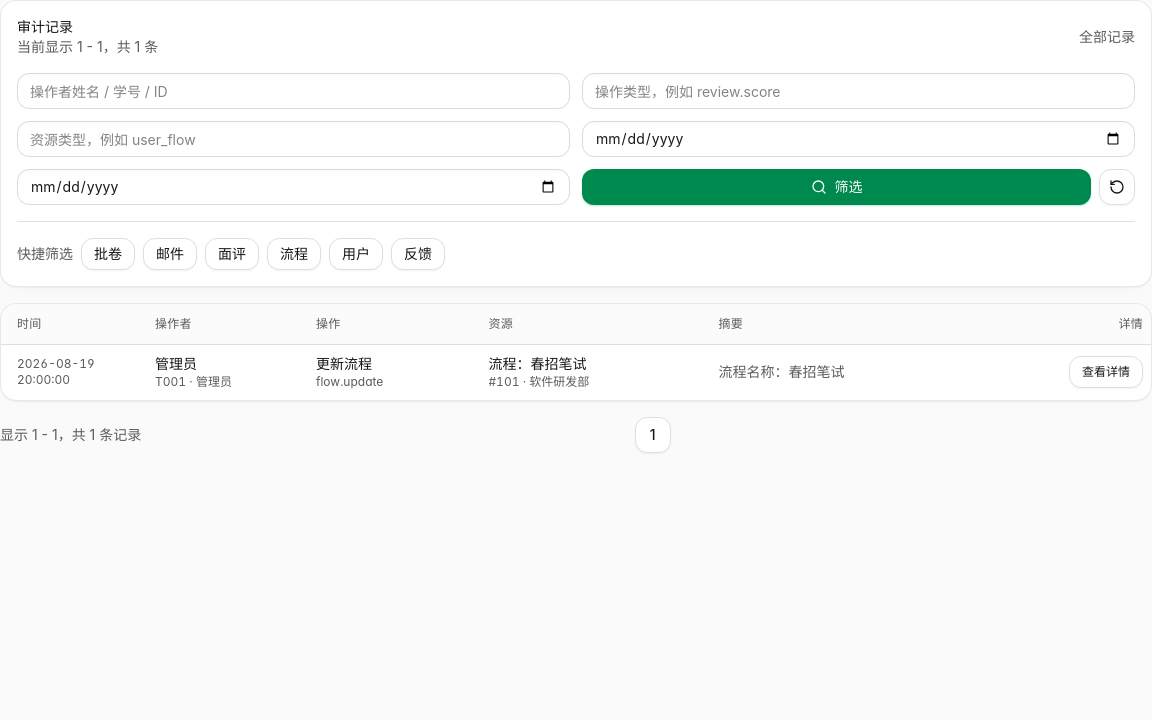
Test: AuditLogTable › keeps rows compact and opens full details on demand
Check: the text "流程名称：春招笔试" is shown, box x1=718 y1=363 x2=844 y2=380
Check: the text "#101 · 软件研发部" is shown, box x1=488 y1=374 x2=589 y2=389
Click the button "查看详情". click: (1106, 372)
box: x1=1069 y1=356 x2=1143 y2=388
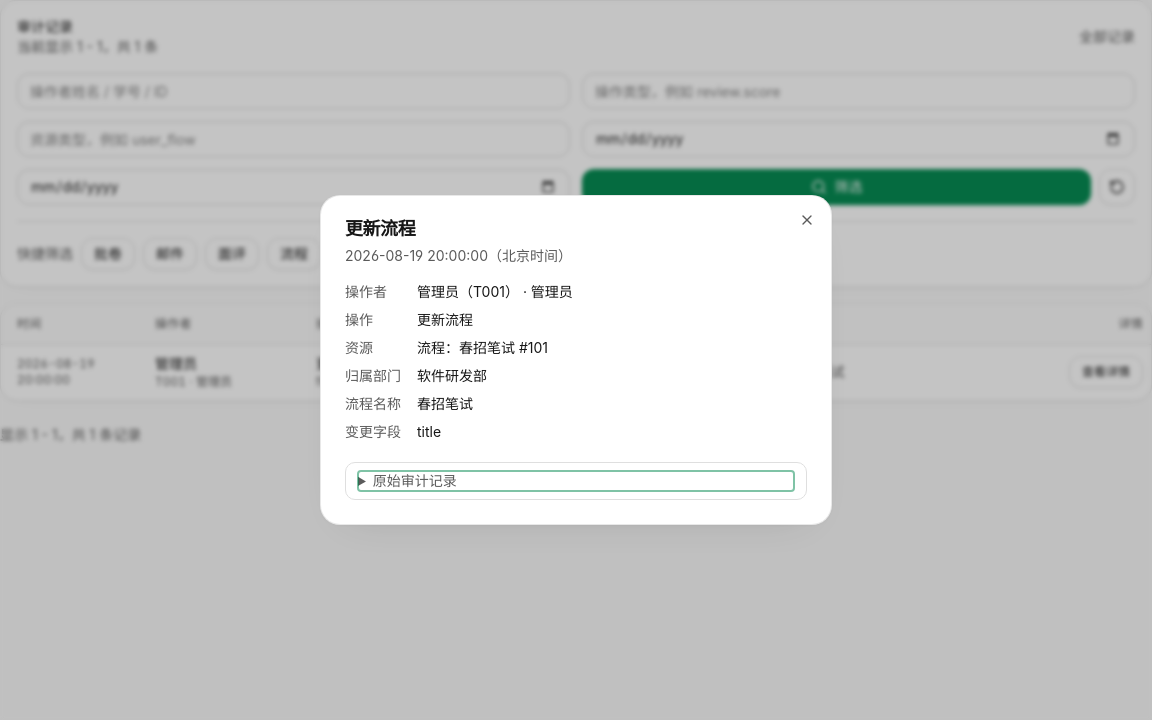
Check: the dialog is shown, box x1=320 y1=195 x2=832 y2=525
Check: the text "软件研发部" is shown, box x1=417 y1=367 x2=487 y2=384
